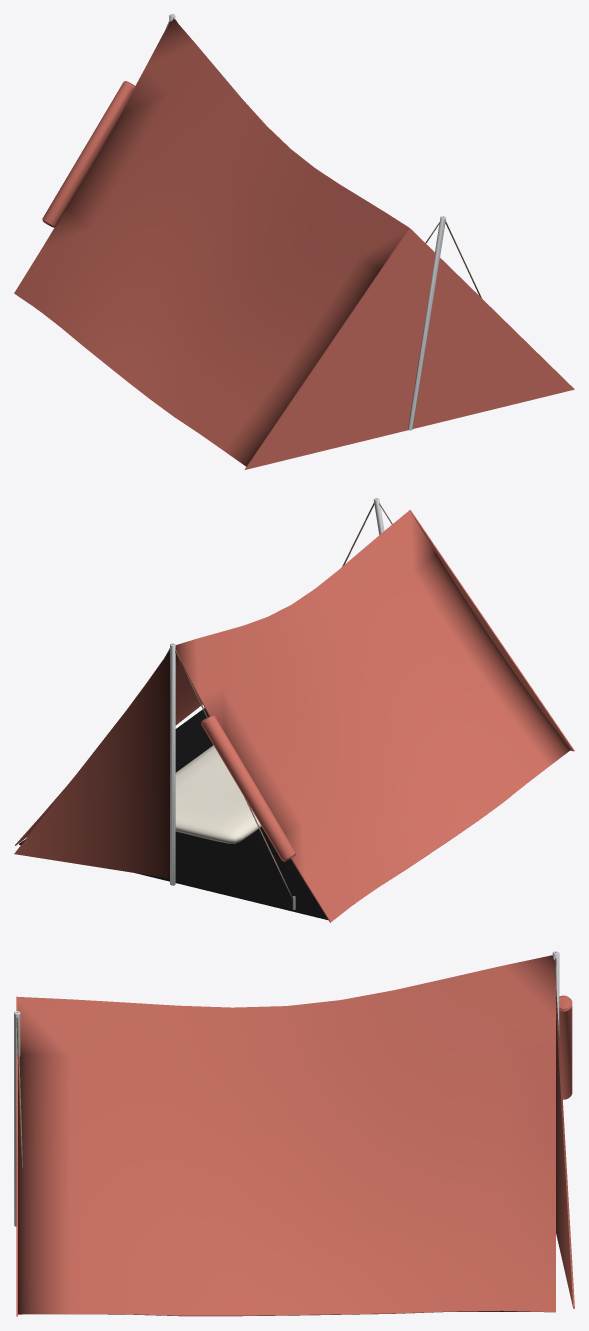
Rendered from tent.glb.
3 renders of one model, top to bottom at view 1: azimuth 30°, elevation 25°; view 2: azimuth 150°, elevation 25°; view 3: azimuth 270°, elevation 25°, orthographic. The views are drawn at different scales.
Visible parts, largest first — view 1: PART; view 2: PART; view 3: PART.
Part boxes in pixels (left/top/right/bottom): PART: left=14, top=14, right=574, bottom=469; PART: left=14, top=498, right=574, bottom=922; PART: left=14, top=951, right=574, bottom=1316.
Size of the model in its own units: 2 by 1.4 by 2.6.
